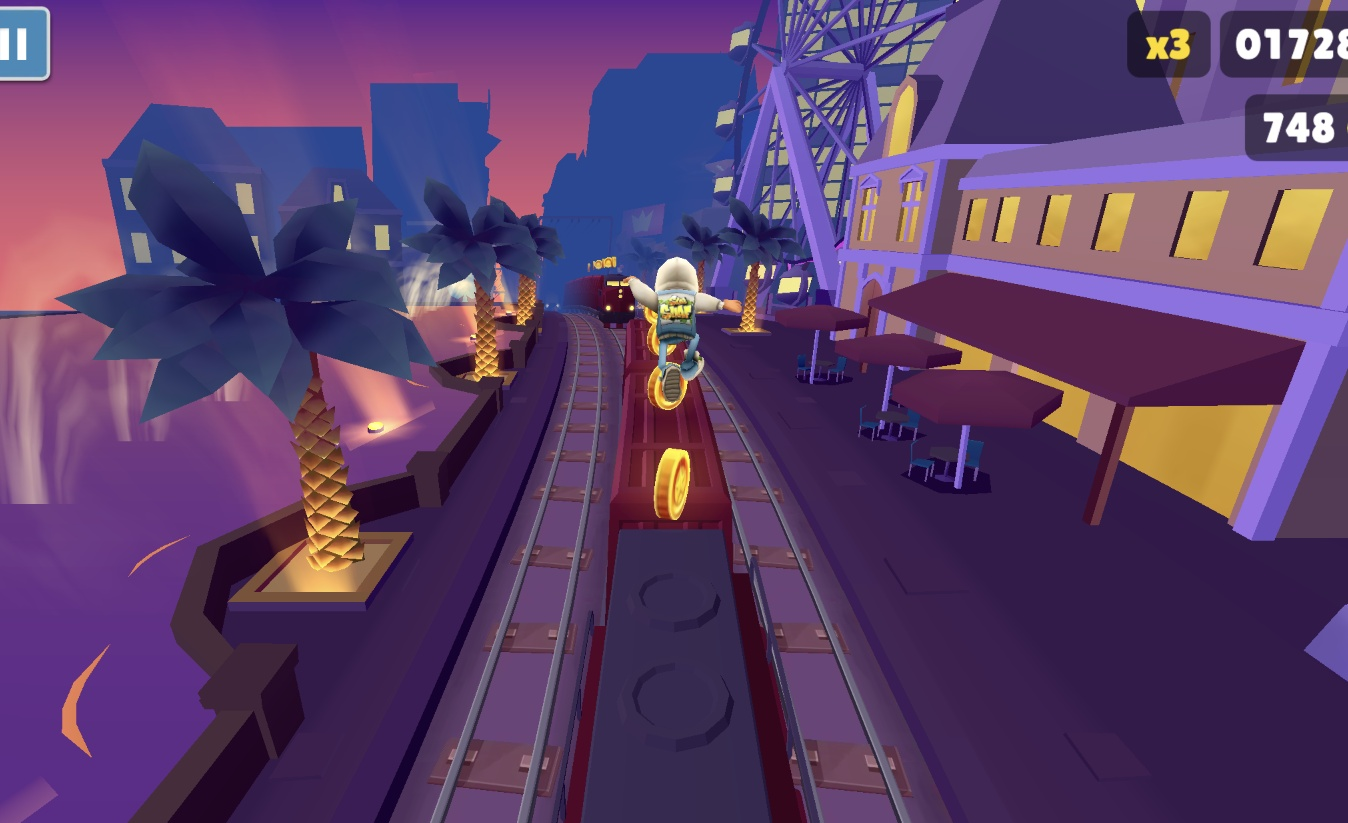train: (566, 322, 802, 823), (567, 275, 638, 328)
